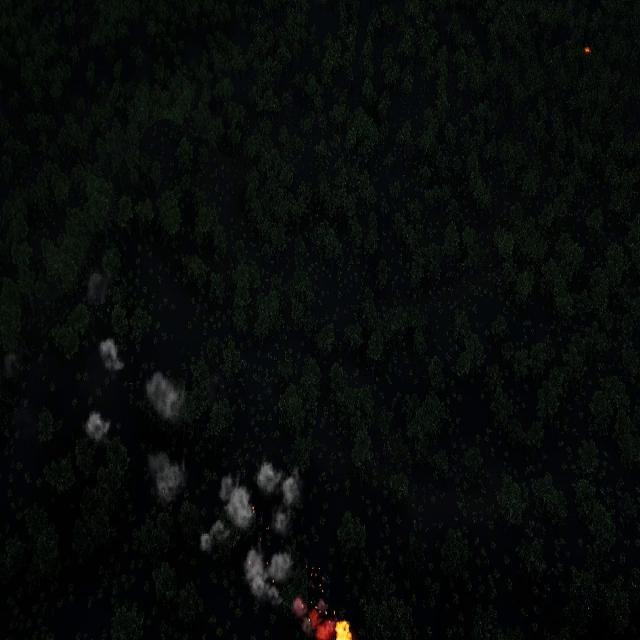fire: (334, 620, 352, 640), (585, 44, 592, 54)
smoke: (205, 461, 332, 640), (144, 452, 185, 505), (144, 368, 184, 420), (98, 338, 124, 374), (85, 412, 112, 442), (87, 270, 111, 302), (2, 351, 16, 378)
